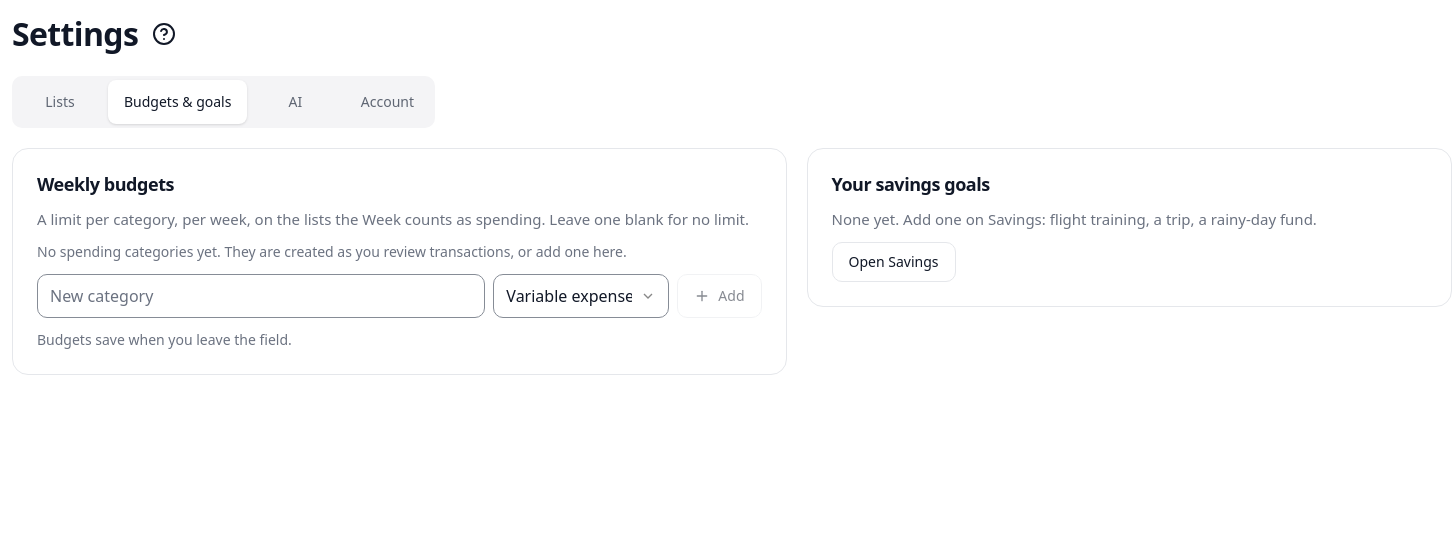
Test: SettingsScreen, adding a category › takes away why the last add was refused once another goes in
This screenshot has width=1452, height=536.
Type "Rent" into the field with placeholder "New category".
click(261, 296); type("Rent")  # box [37,274,485,318]
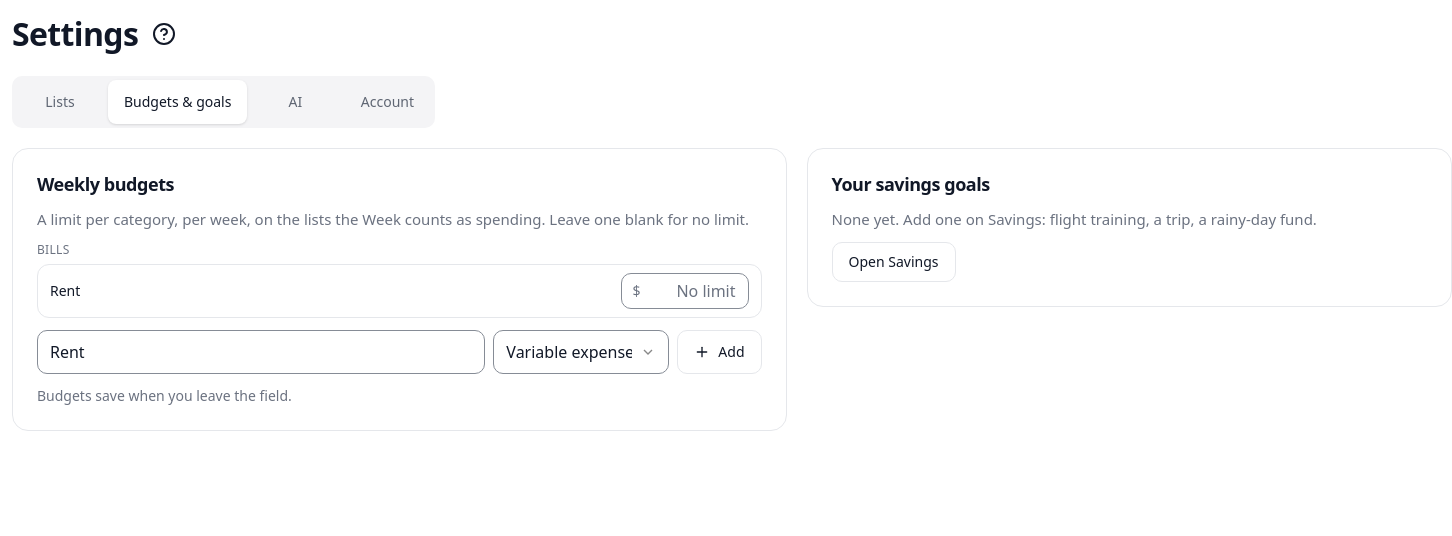
Click the button "Add".
click(720, 352)  # box [677,330,762,374]
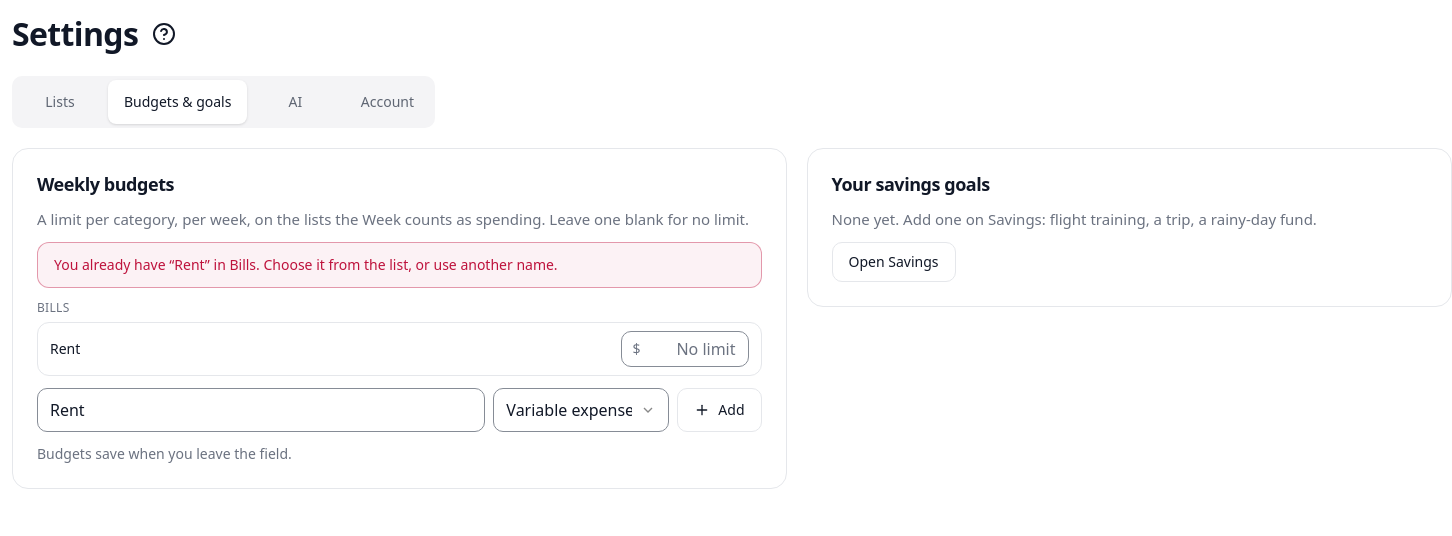
Expected: the message shows "You already have “Rent” in Bills", [54,255,558,274]
Replace the text in the field with placeholder "New category" with "Pet food" at (261, 410), box [37,388,485,432]
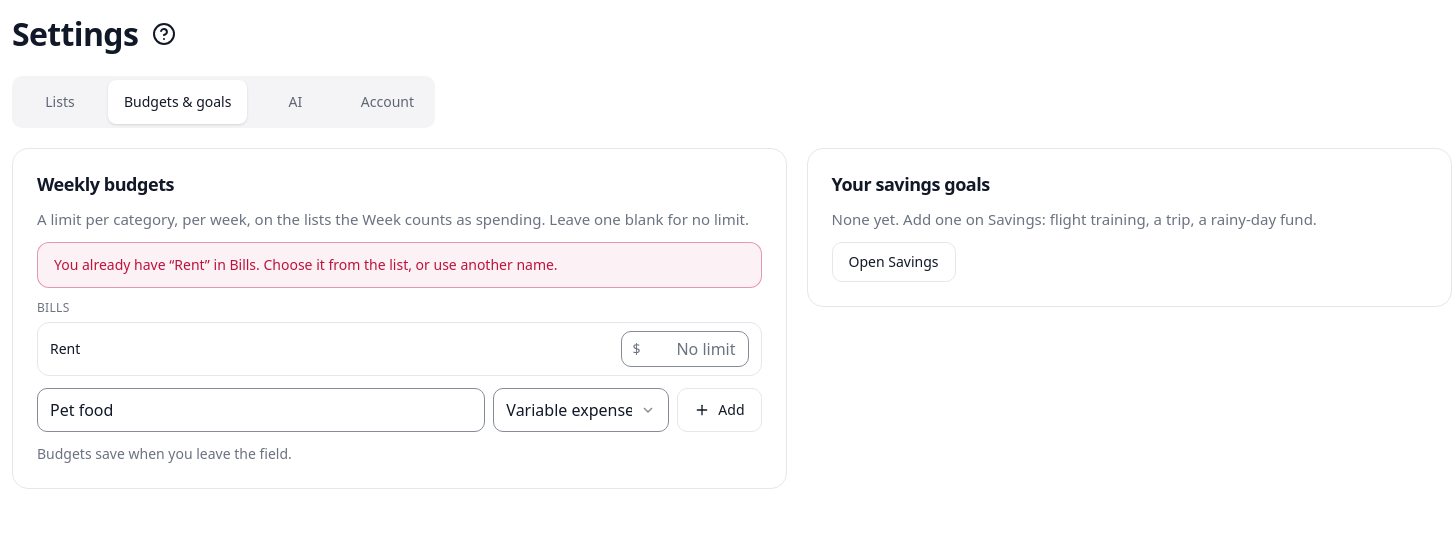
Click the button "Add".
click(720, 410)  # box [677,388,762,432]
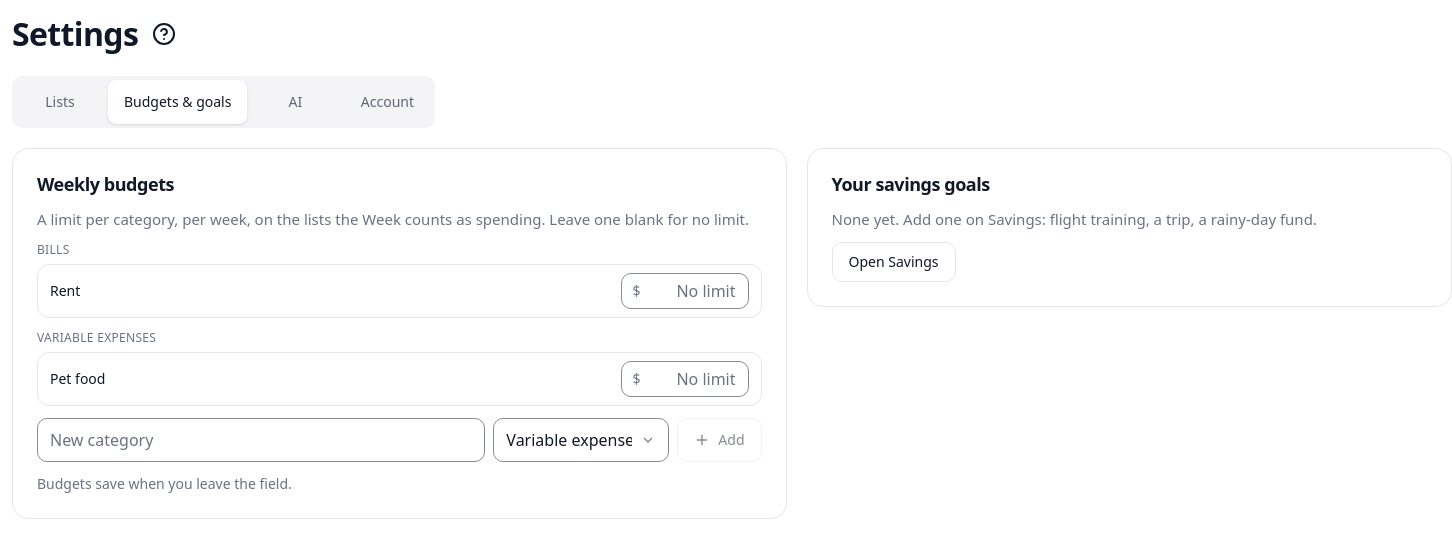
Expected: the text "You already have" is gone
